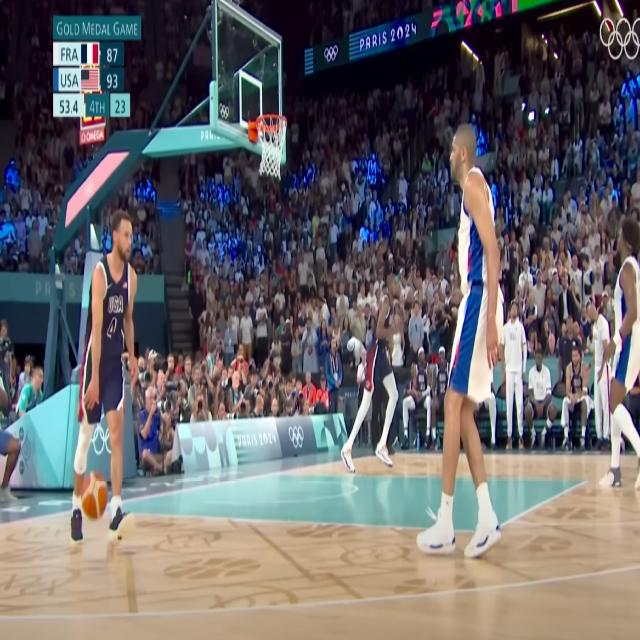basketball: (80, 470, 108, 520)
hoop: (254, 112, 287, 179)
